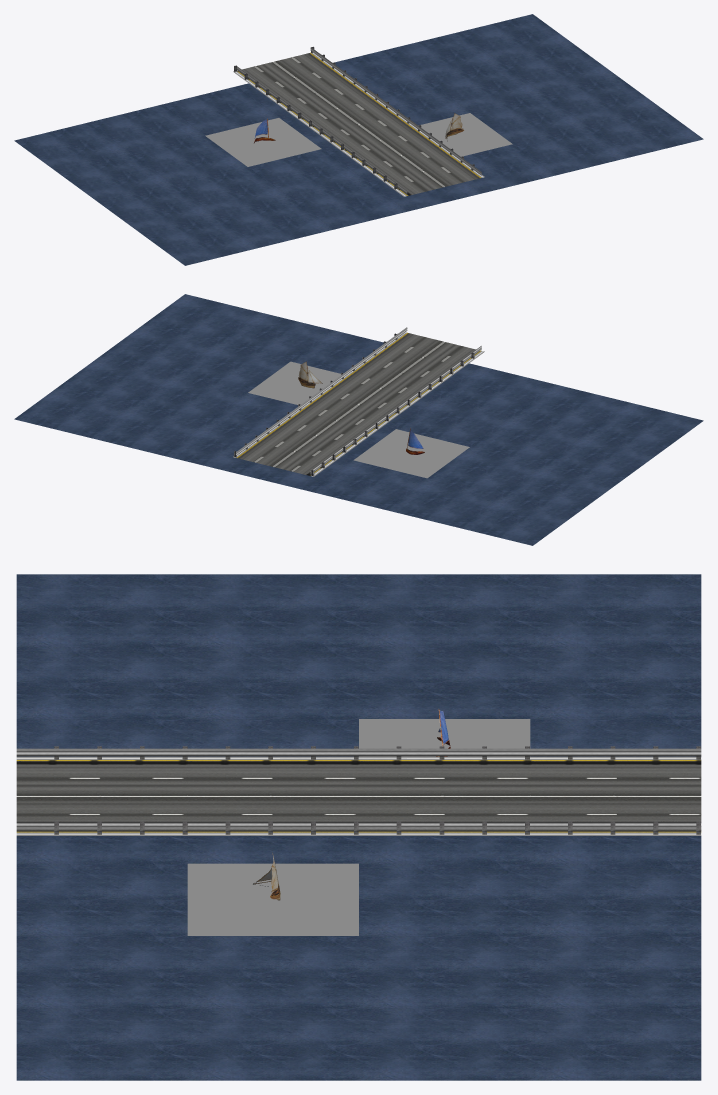
3 views of the same model, one above another, from view 1: azimuth 30°, elevation 25°; view 2: azimuth 150°, elevation 25°; view 3: azimuth 270°, elevation 25° (orthographic). The views are drawn at different scales.
Visible parts, largest first — view 1: scene5, road006, relling006; view 2: scene5, road006, relling006; view 3: scene5, road006, relling006.
Part boxes in pixels (bbox=[...]): scene5: bbox=[14, 14, 703, 265]; road006: bbox=[237, 52, 480, 195]; relling006: bbox=[233, 46, 484, 196]; scene5: bbox=[14, 294, 703, 545]; road006: bbox=[237, 332, 480, 475]; relling006: bbox=[233, 327, 484, 476]; scene5: bbox=[16, 574, 701, 1080]; road006: bbox=[16, 760, 701, 832]; relling006: bbox=[16, 746, 701, 835].
Size of the model in its own units: 140 by 6.86 by 80.
